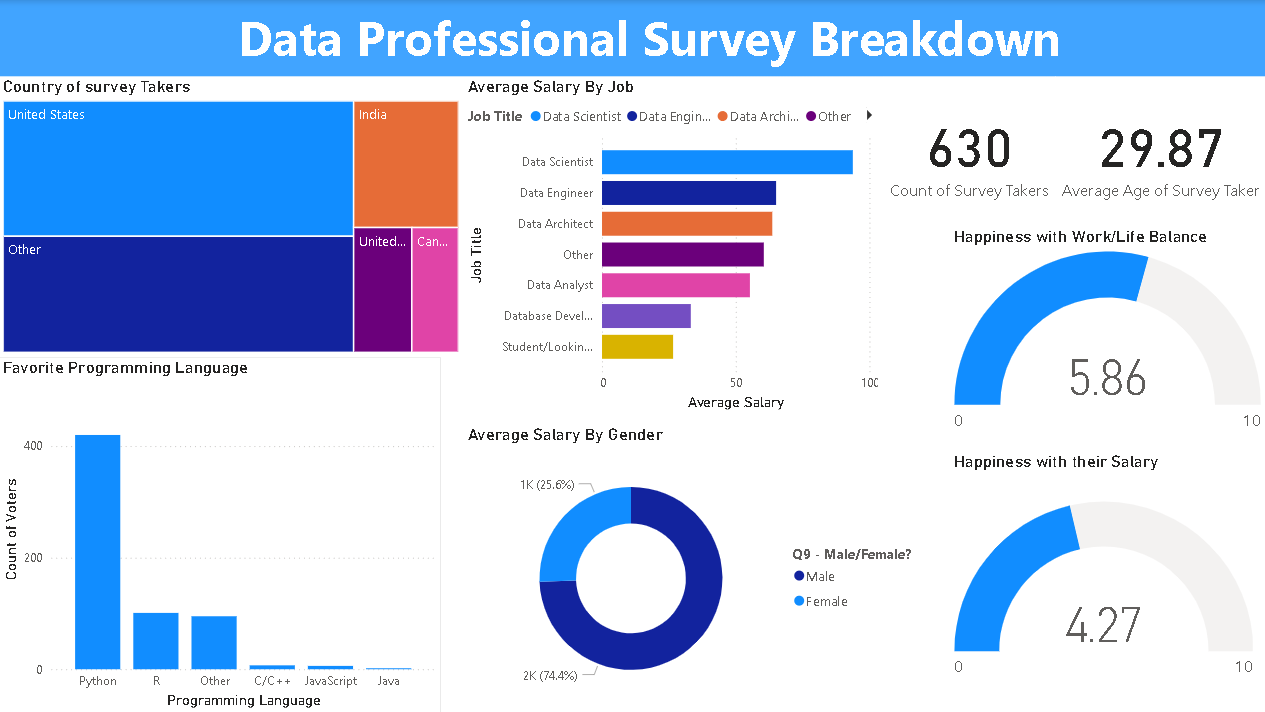

This screenshot's page, from the dashboard's own definition file:
{"tool":"powerbi","page":{"name":"Page 1","canvas":[1280,720],"ordinal":0},"visuals":[{"type":"textbox","box":[9.4,0,1269.9,117.2],"z":0},{"type":"textbox","box":[0,0,1279.5,77.2],"z":1000},{"type":"card","fields":{"Values":["CountNonNull(Data Professional Survey.Unique ID)"]},"box":[873.7,77.2,193.8,151.4],"z":2000},{"type":"card","fields":{"Values":["Avg(Data Professional Survey.Q10 - Current Age)"]},"box":[1069,77.2,210.5,151.4],"z":3000},{"type":"barChart","title":"Average Salary By Job","fields":{"Category":["Data Professional Survey.Q1 - Which Title Best Fits your Current Role?.1"],"Y":["Avg(Data Professional Survey.Average Salary)"],"Series":["Data Professional Survey.Q1 - Which Title Best Fits your Current Role?.1"]},"box":[469.4,77.2,404.3,340.7],"z":4000},{"type":"columnChart","title":"Favorite Programming Language","fields":{"Category":["Data Professional Survey.Q5 - Favorite Programming Language.1"],"Y":["CountNonNull(Data Professional Survey.Unique ID)"]},"box":[0,325.6,469.4,393.7],"z":5000},{"type":"treemap","title":"Country of survey Takers","fields":{"Group":["Data Professional Survey.Q11 - Which Country do you live in?.1"],"Values":["CountNonNull(Data Professional Survey.Q11 - Which Country do you live in?.1)"]},"box":[0,77.2,469.4,248.3],"z":6000},{"type":"gauge","title":"Happiness with Work/Life Balance","fields":{"Y":["Avg(Data Professional Survey.Q6 - How Happy are you in your Current Position with the following? (Coworkers))"],"MinValue":["Min(Data Professional Survey.Q6 - How Happy are you in your Current Position with the following? (Coworkers))"],"MaxValue":["Max(Data Professional Survey.Q6 - How Happy are you in your Current Position with the following? (Coworkers))"]},"box":[960,228.6,319.5,216.5],"z":7000},{"type":"gauge","title":"Happiness with their Salary","fields":{"Y":["Avg(Data Professional Survey.Q6 - How Happy are you in your Current Position with the following? (Salary))"],"MinValue":["Min(Data Professional Survey.Q6 - How Happy are you in your Current Position with the following? (Salary))"],"MaxValue":["Max(Data Professional Survey.Q6 - How Happy are you in your Current Position with the following? (Salary))"]},"box":[960,455.8,311.9,263.5],"z":8000},{"type":"donutChart","title":"Average Salary By Gender","fields":{"Category":["Data Professional Survey.Q9 - Male/Female?"],"Y":["Sum(Data Professional Survey.Q6 - How Happy are you in your Current Position with the following? (Salary))"]},"box":[469.4,428.5,472.4,290.7],"z":9000}]}

Visuals, with their boxes in screenshot pixels (x1, y1, x2, y2), scaled from the page's 1280x720 canvas onto the 1265x712 screenshot:
textbox: locate(9, 0, 1264, 116)
textbox: locate(0, 0, 1264, 76)
card - CountNonNull(Data Professional Survey.Unique ID): locate(863, 76, 1055, 226)
card - Avg(Data Professional Survey.Q10 - Current Age): locate(1056, 76, 1264, 226)
"Average Salary By Job" barChart: locate(464, 76, 863, 413)
"Favorite Programming Language" columnChart: locate(0, 322, 464, 711)
"Country of survey Takers" treemap: locate(0, 76, 464, 322)
"Happiness with Work/Life Balance" gauge: locate(949, 226, 1264, 440)
"Happiness with their Salary" gauge: locate(949, 451, 1257, 711)
"Average Salary By Gender" donutChart: locate(464, 424, 931, 711)
